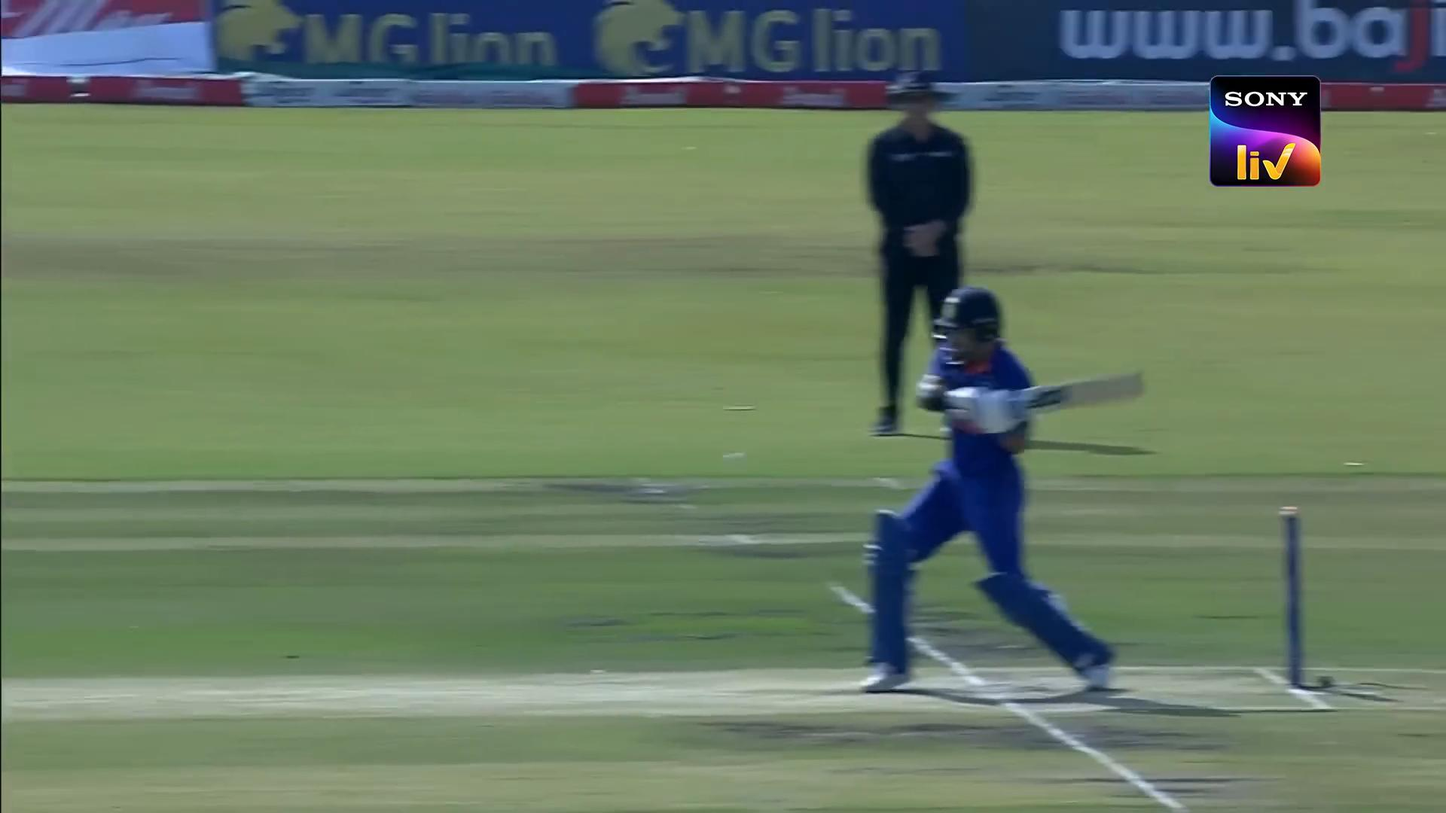batsman: (863, 286, 1145, 697)
